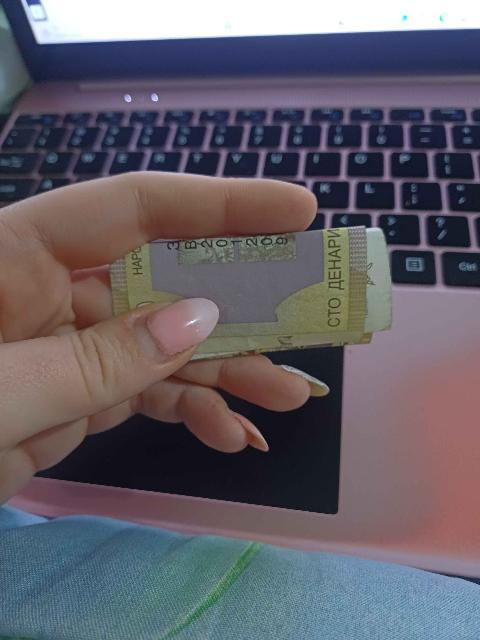100_note: (111, 227, 391, 358)
